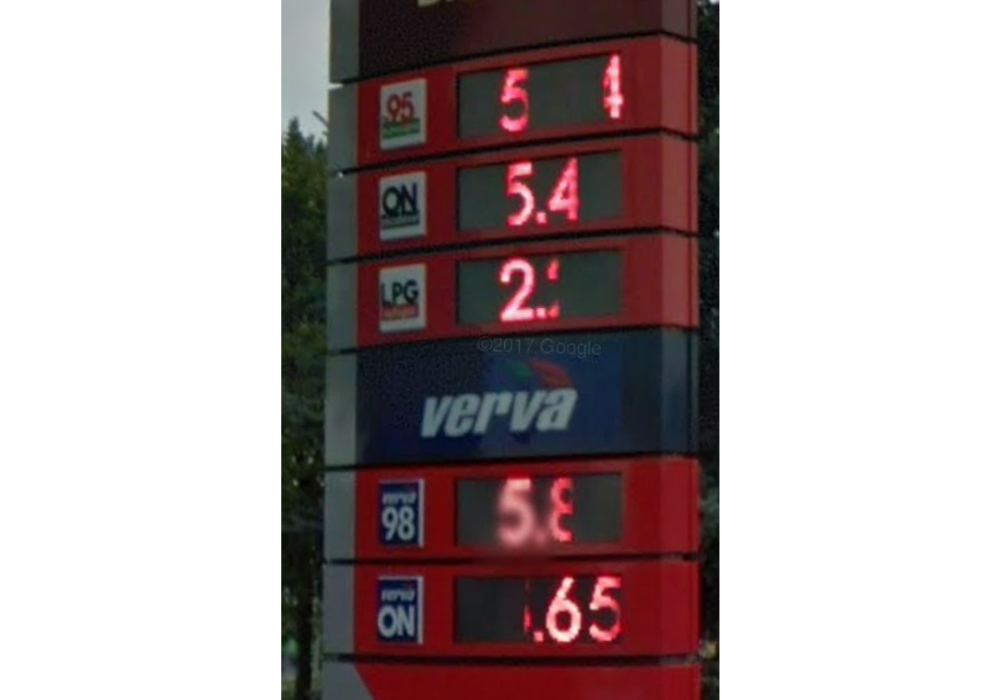LPG: (376, 258, 427, 335)
ON: (371, 574, 427, 649), (376, 165, 428, 245)
PB95: (375, 76, 427, 155)
PB98: (375, 471, 425, 549)
